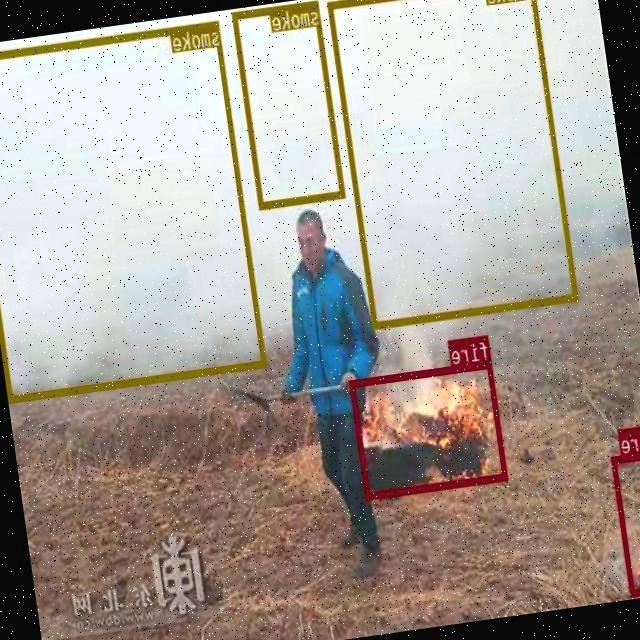fire: (350, 360, 510, 499), (612, 448, 640, 595)
smoke: (0, 20, 268, 401), (328, 0, 579, 327), (232, 0, 346, 208)
